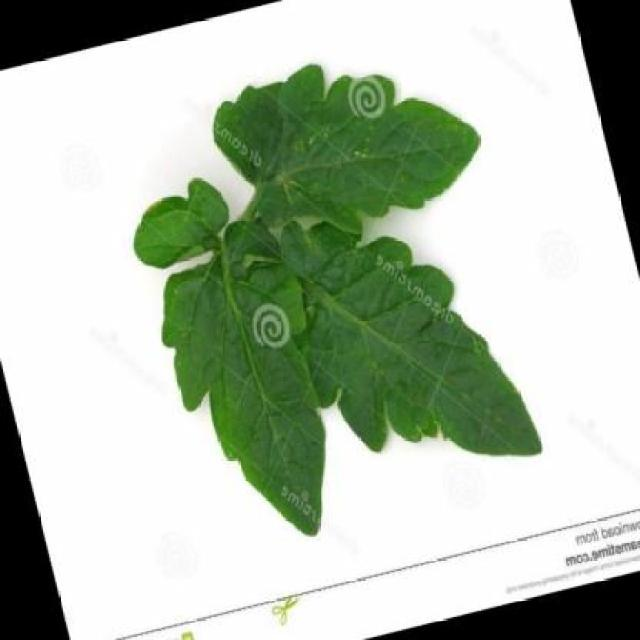Healthy Leaf: (227, 152, 550, 536), (152, 23, 467, 294), (141, 221, 378, 579)
